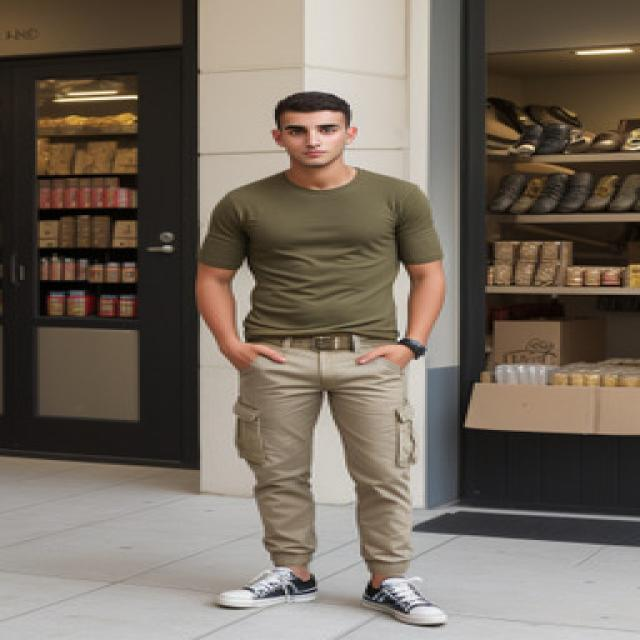Ai human 2: (180, 85, 483, 636)
